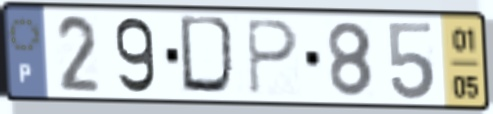2: (54, 13, 102, 95)
5: (388, 19, 439, 102)
8: (325, 20, 376, 100)
9: (113, 15, 157, 95)
D: (176, 13, 243, 100)
P: (243, 16, 301, 98)
